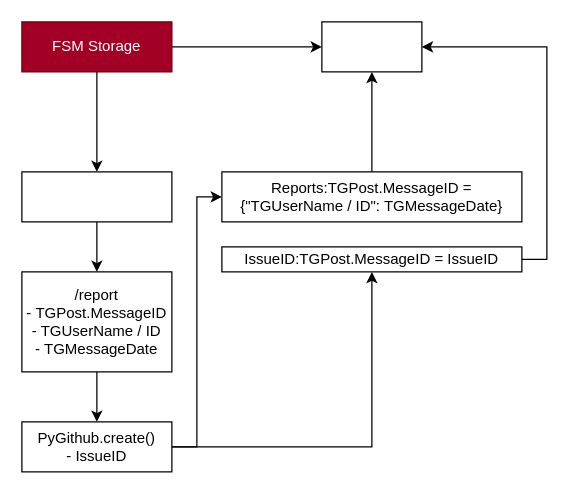
The diagram is 579 pixels wide and 494 high, and some of its shapes have lost their labels. Each missing label, with the centre of its shape:
"Redis" belongs at (371,46).
"TelegramPost" belongs at (96,196).
